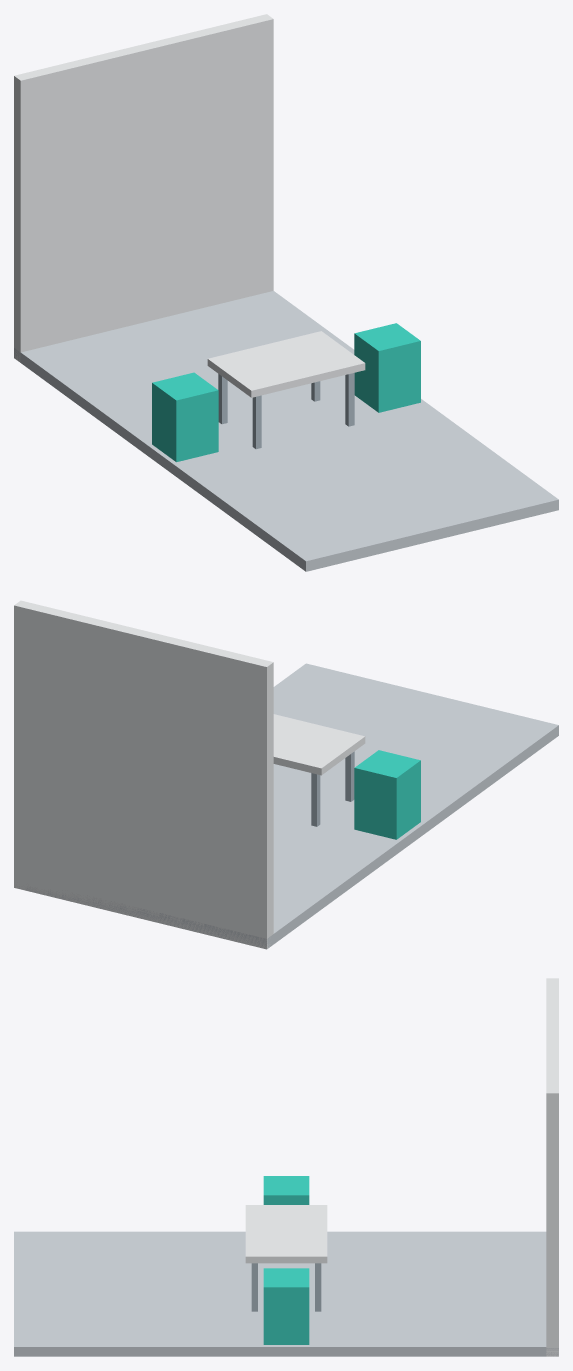
The picture shows the model from 3 angles, top to bottom: view 1: azimuth 30°, elevation 25°; view 2: azimuth 150°, elevation 25°; view 3: azimuth 270°, elevation 25°; orthographic projection. The views are drawn at different scales.
Parts seen in each view (by area): view 1: Exhibition Booth Concept; view 2: Exhibition Booth Concept; view 3: Exhibition Booth Concept.
Part boxes in pixels (x1,y1,x2,y2): Exhibition Booth Concept: (14,14,558,571); Exhibition Booth Concept: (14,600,558,949); Exhibition Booth Concept: (14,978,558,1356).
Bounding box in the file's own units: 3 × 3.2 × 6.
